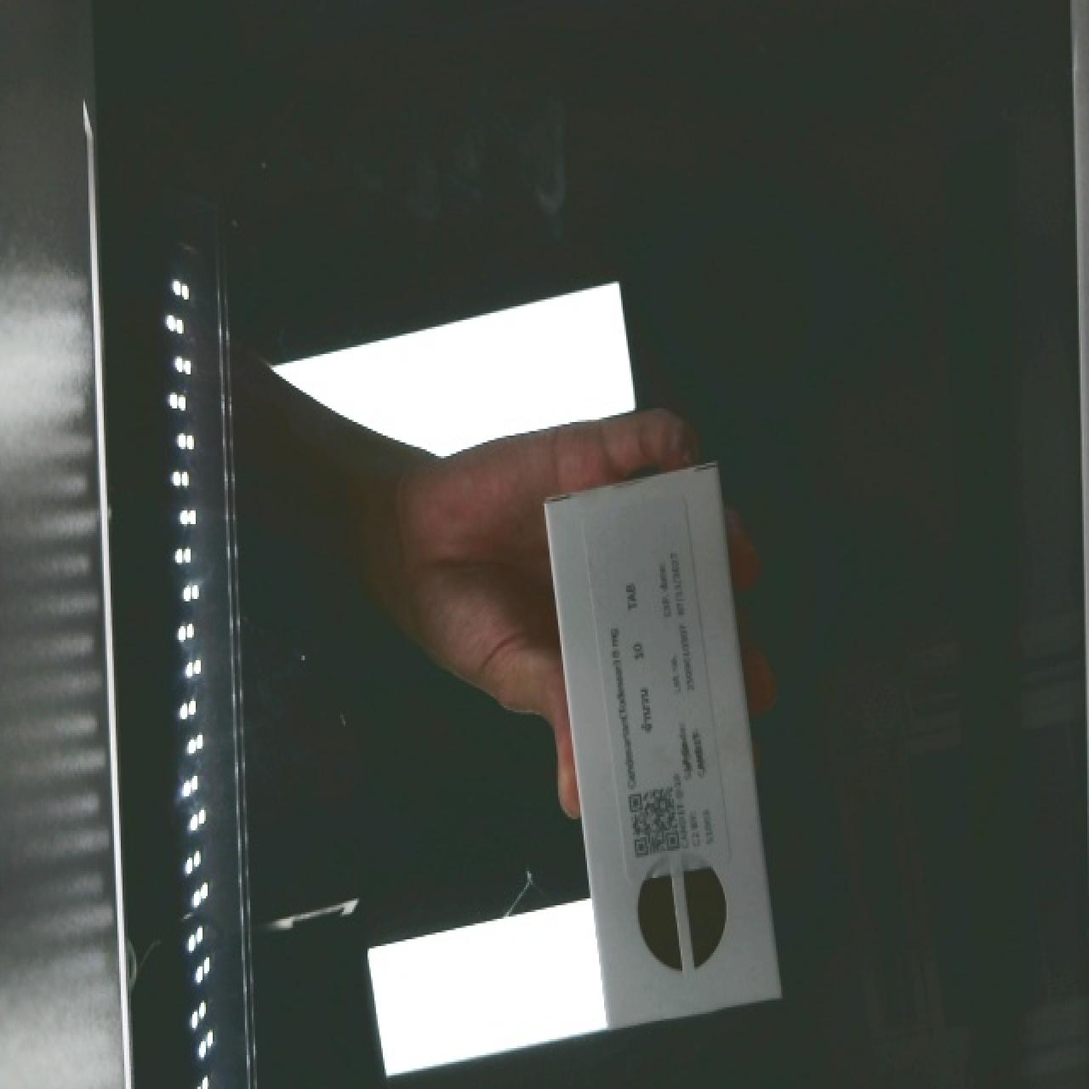qr_code: (605, 758, 706, 874)
